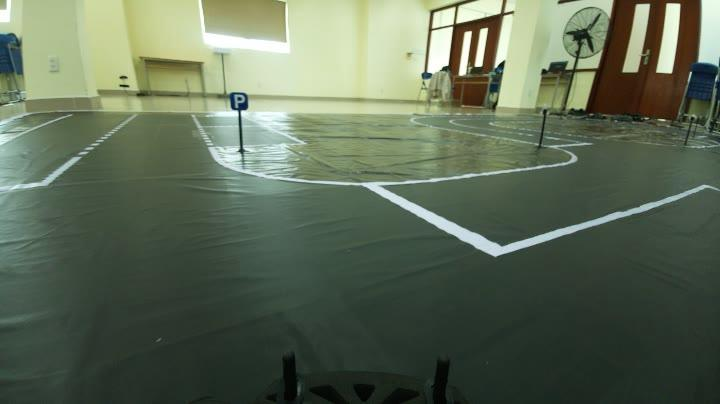parking: (228, 88, 253, 116)
